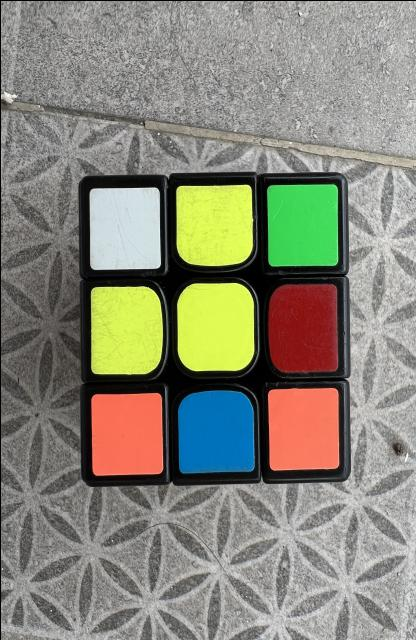Blue: (177, 390, 254, 472)
Green: (266, 184, 338, 265)
Orange: (90, 392, 162, 475), (266, 388, 338, 470)
Red: (268, 284, 337, 371)
White: (89, 186, 160, 269)
Yellow: (176, 281, 254, 370), (90, 285, 162, 374), (176, 184, 252, 265)
